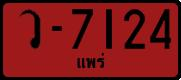letters: (68, 7, 94, 50), (16, 8, 42, 50), (122, 8, 147, 50), (149, 8, 173, 50), (103, 7, 114, 50)
province: (75, 51, 106, 70)
